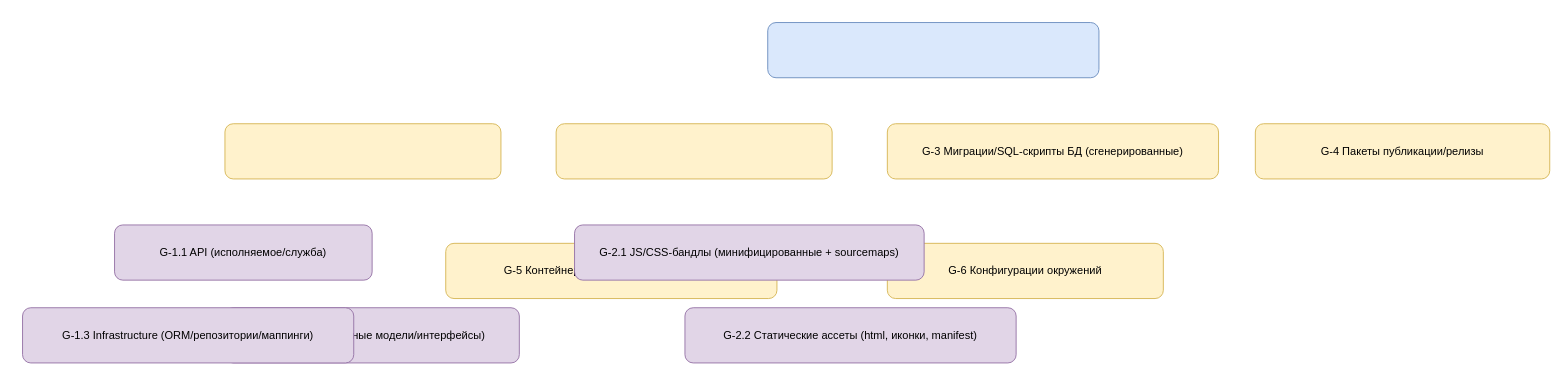
The diagram is 1566 pixels wide and 379 high, and some of its shapes have lost their labels. The shapes that lost their labels are listed below. From the top down, each one's centre as x and y in pixels, then its label:
pixel 933 50: G-0 Комплекс исполняемых и статических артефактов HMS
pixel 362 151: G-1 Серверные сборки
pixel 693 151: G-2 Клиентские артефакты
